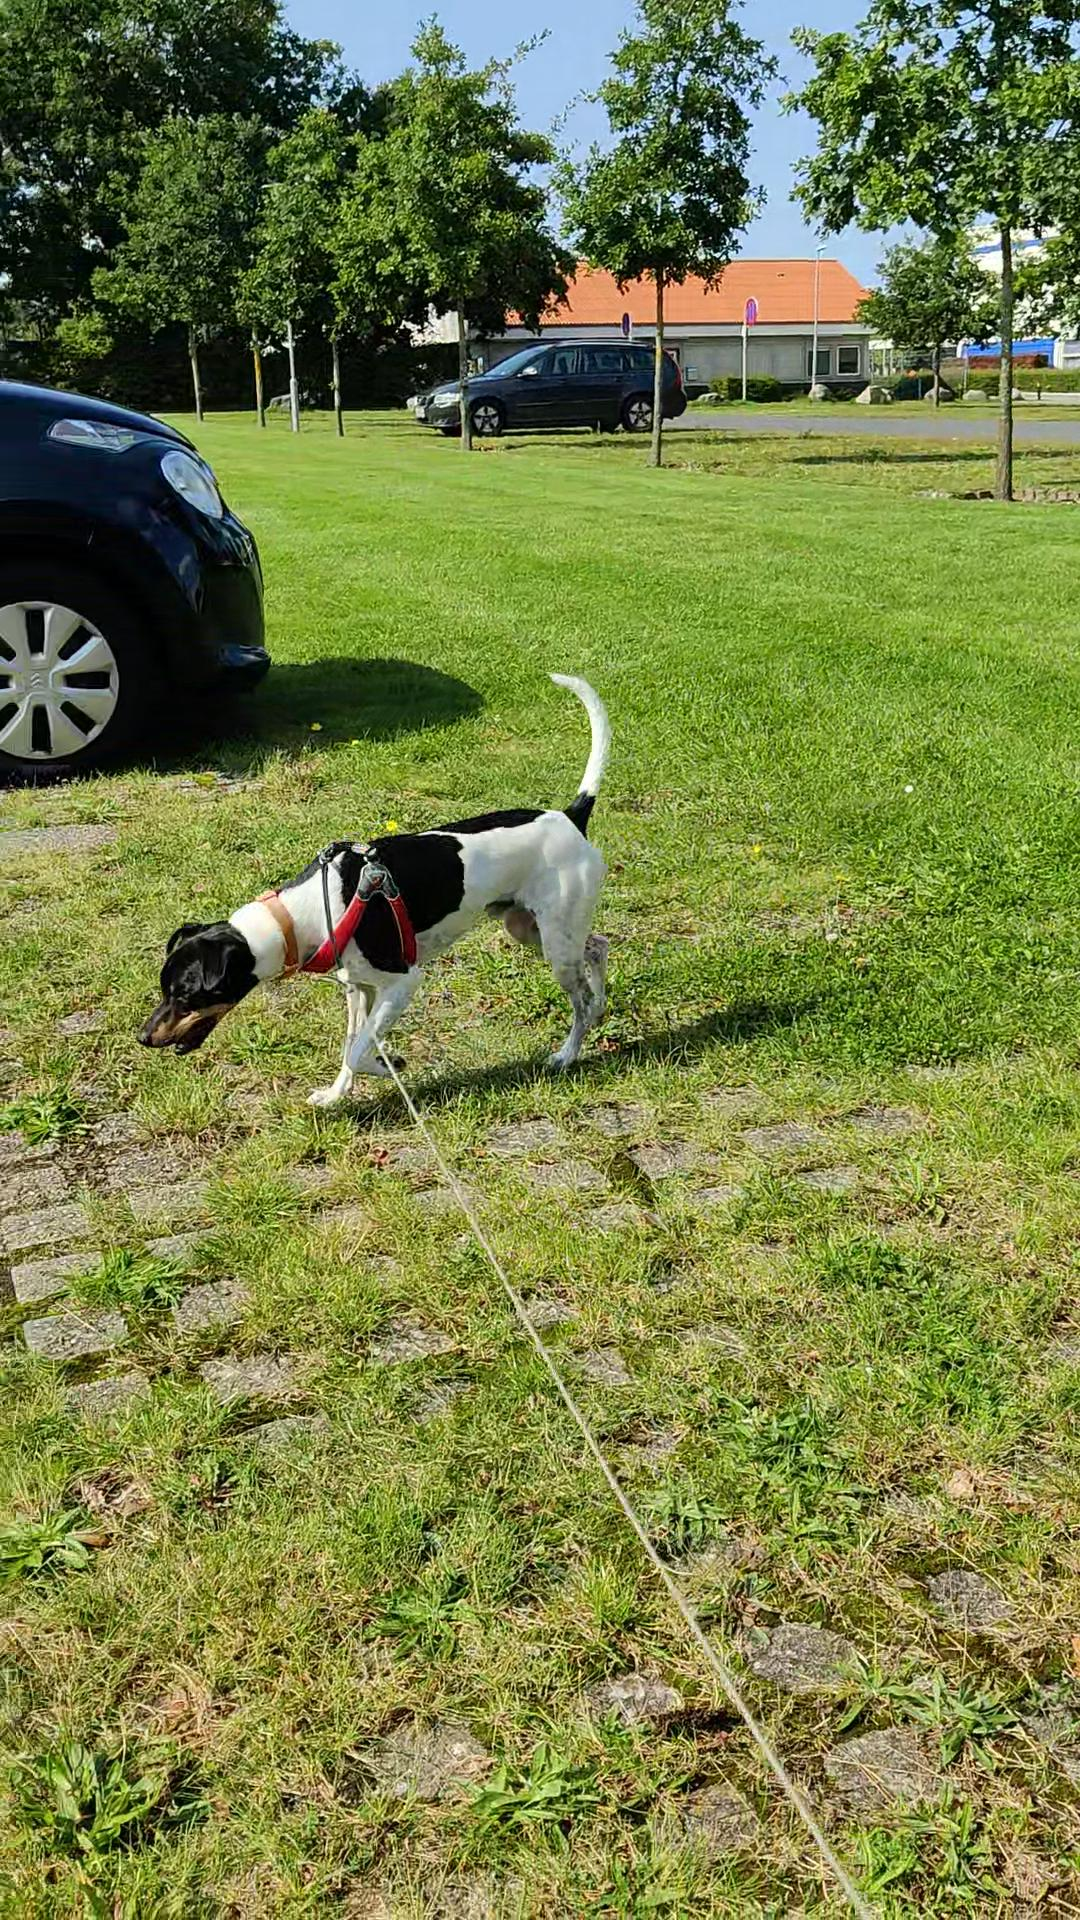Dog: (120, 654, 637, 1142)
